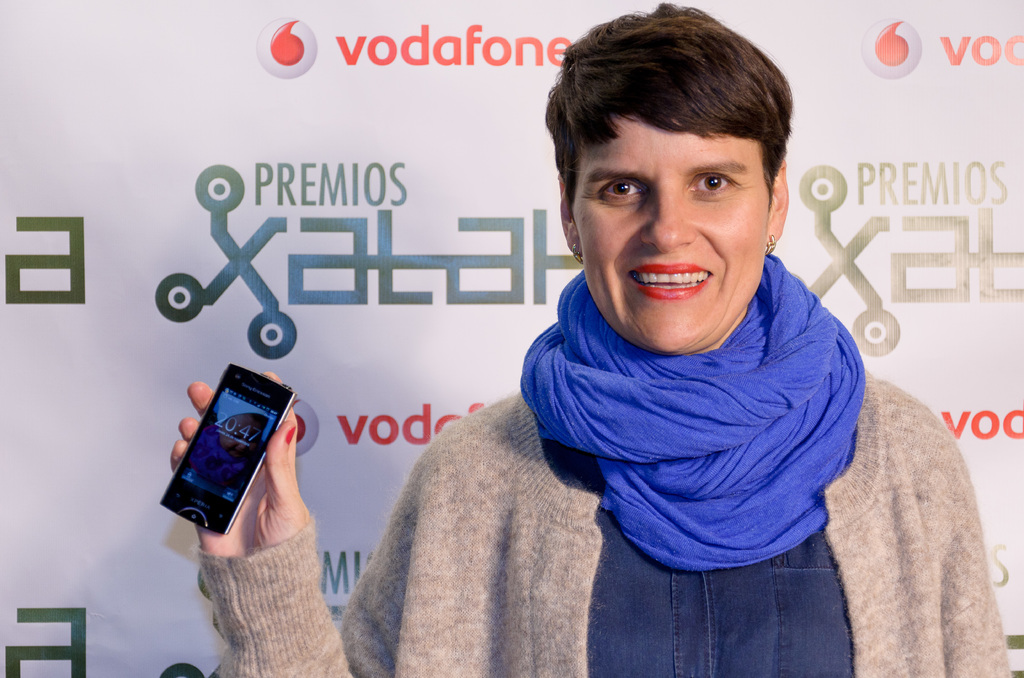Mobile-phone: (156, 362, 297, 537)
